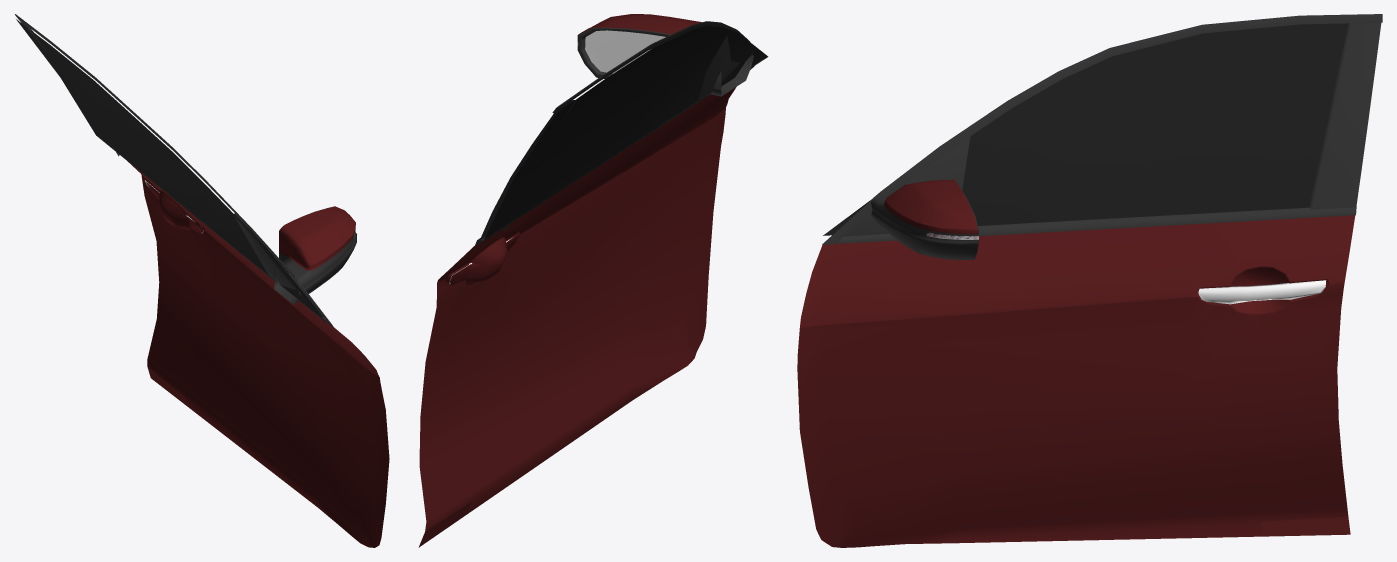
The model's file is Honda_Civic_LF_Door.glb.
The picture shows the model from 3 angles, left to right: view 1: azimuth 30°, elevation 25°; view 2: azimuth 150°, elevation 25°; view 3: azimuth 270°, elevation 25°; orthographic projection. The views are drawn at different scales.
Visible parts, largest first — view 1: Mesh_Honda_Civic_LF_Door; view 2: Mesh_Honda_Civic_LF_Door; view 3: Mesh_Honda_Civic_LF_Door.
Part boxes in pixels (x1,y1,x2,y2): Mesh_Honda_Civic_LF_Door: (15,14,389,547); Mesh_Honda_Civic_LF_Door: (418,14,768,547); Mesh_Honda_Civic_LF_Door: (797,14,1382,547).
Bounding box in the file's own units: 21.66 × 51.49 × 58.92.
Materials: 5 (1 with a texture image).
